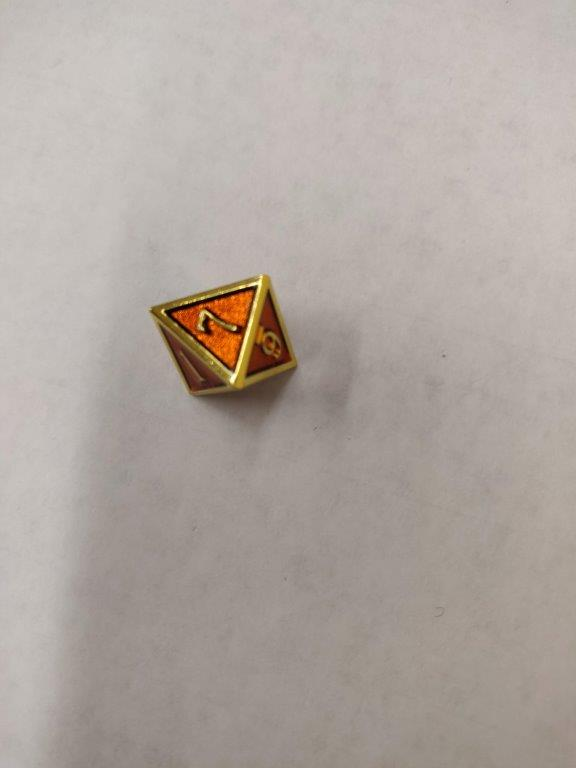d8-7: (149, 265, 300, 401)
